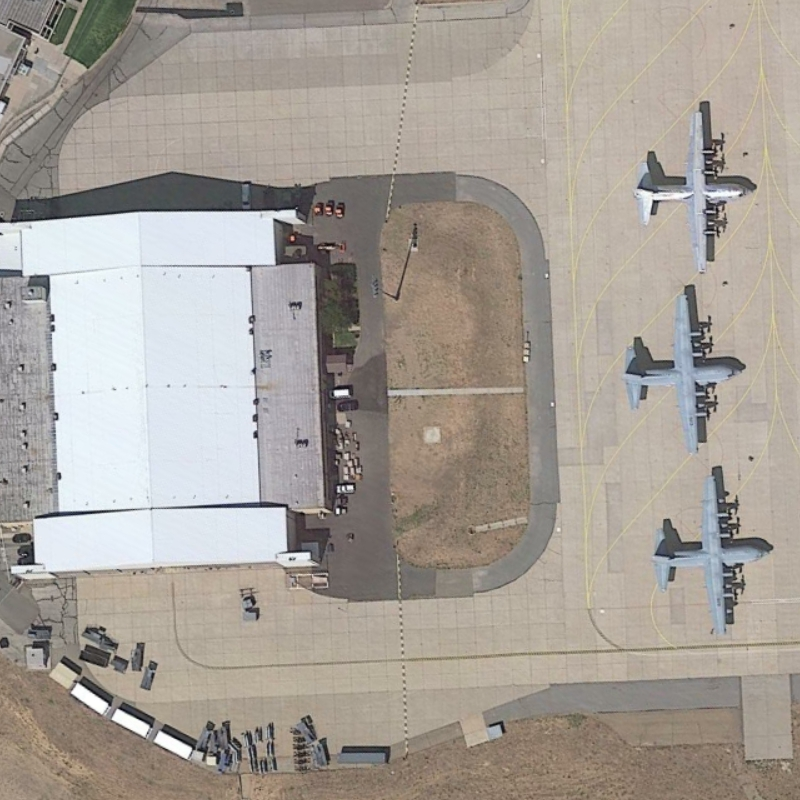A2: (637, 462, 782, 643), (629, 98, 760, 281), (618, 283, 750, 462)
